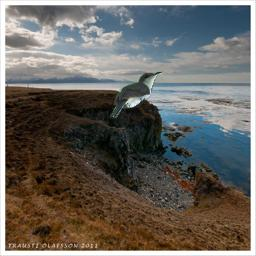Cuckoo: (110, 71, 163, 119)
